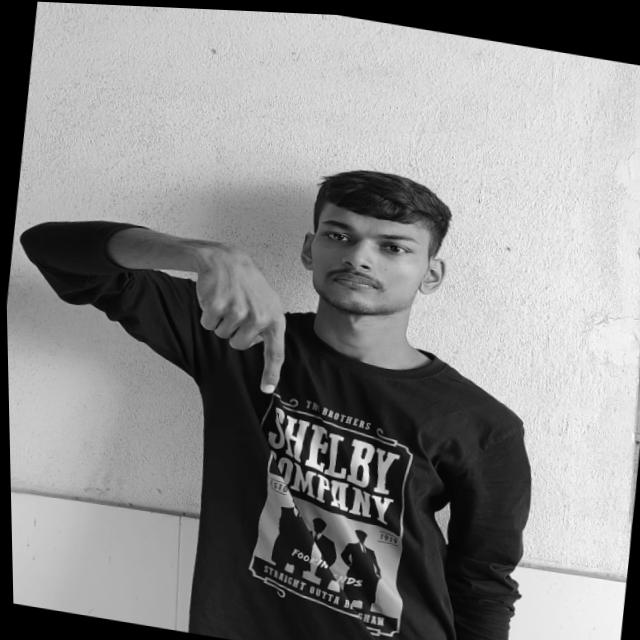Now: (184, 247, 294, 397)
